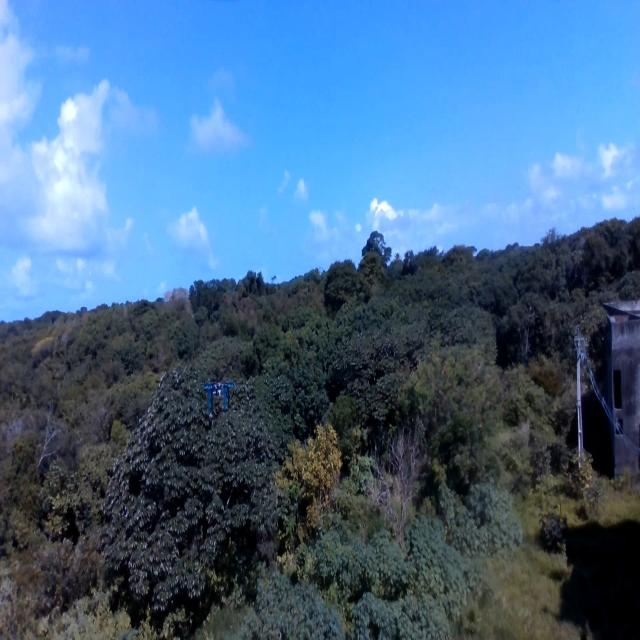-uav-: (202, 368, 240, 428)
